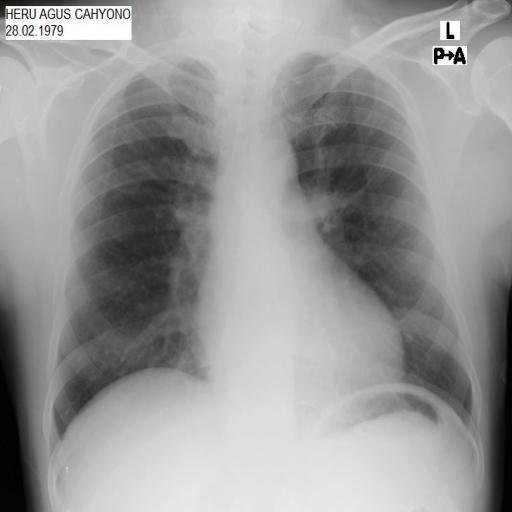kardiomegali: (36, 37, 484, 457)
